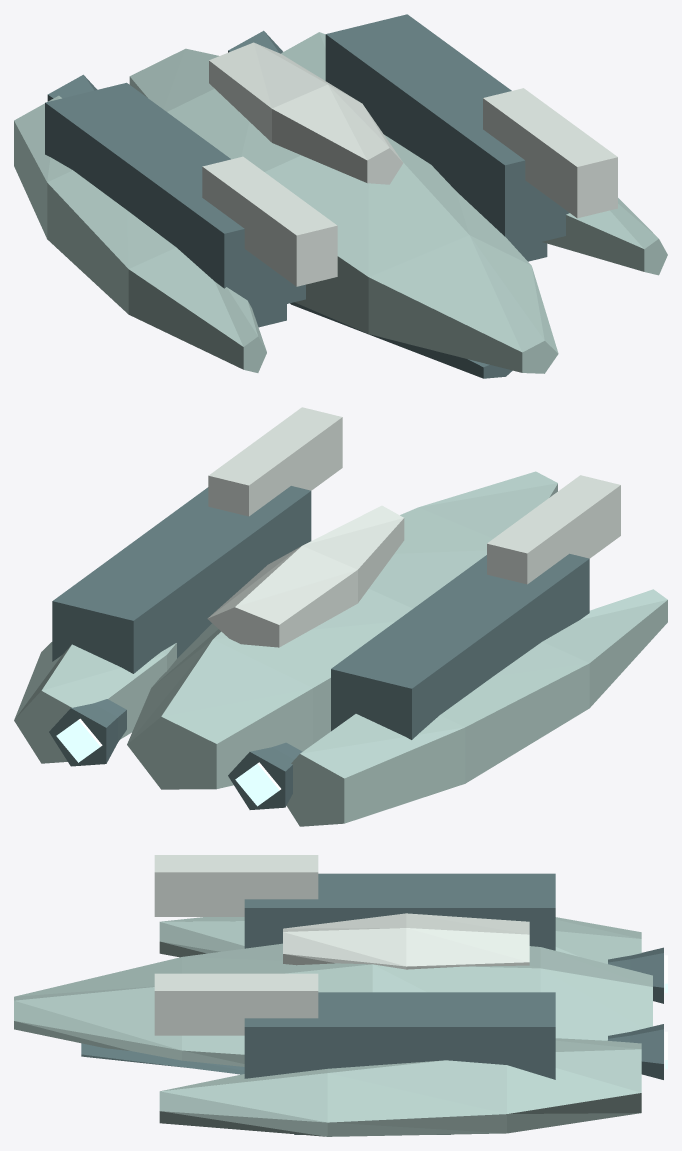
3 views of the same model, one above another, from view 1: azimuth 30°, elevation 25°; view 2: azimuth 150°, elevation 25°; view 3: azimuth 270°, elevation 25° (orthographic). The views are drawn at different scales.
Bounding box in the file's own units: 11.49 × 4.18 × 15.99.
